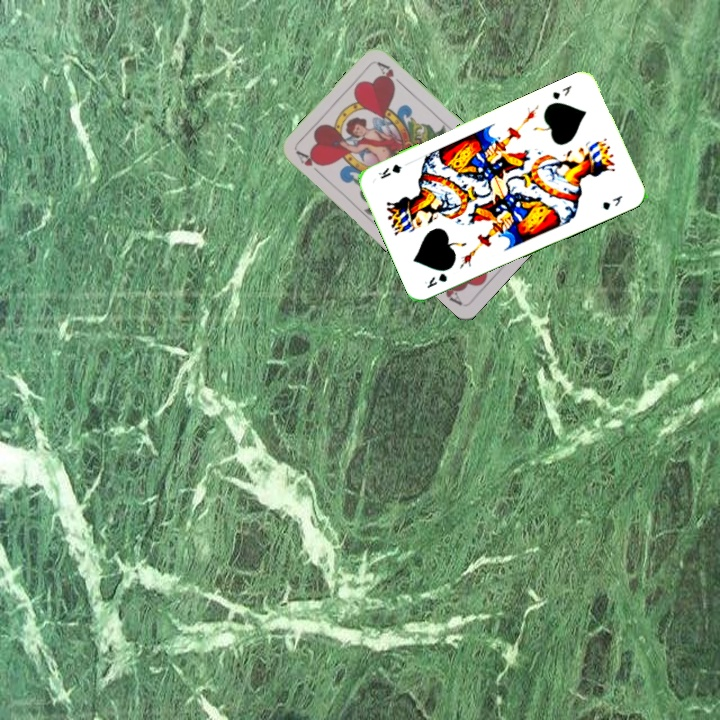GK: (421, 269, 450, 291), (548, 81, 574, 102)
HA: (292, 147, 326, 179)
